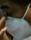with_mask: (1, 2, 31, 40)
